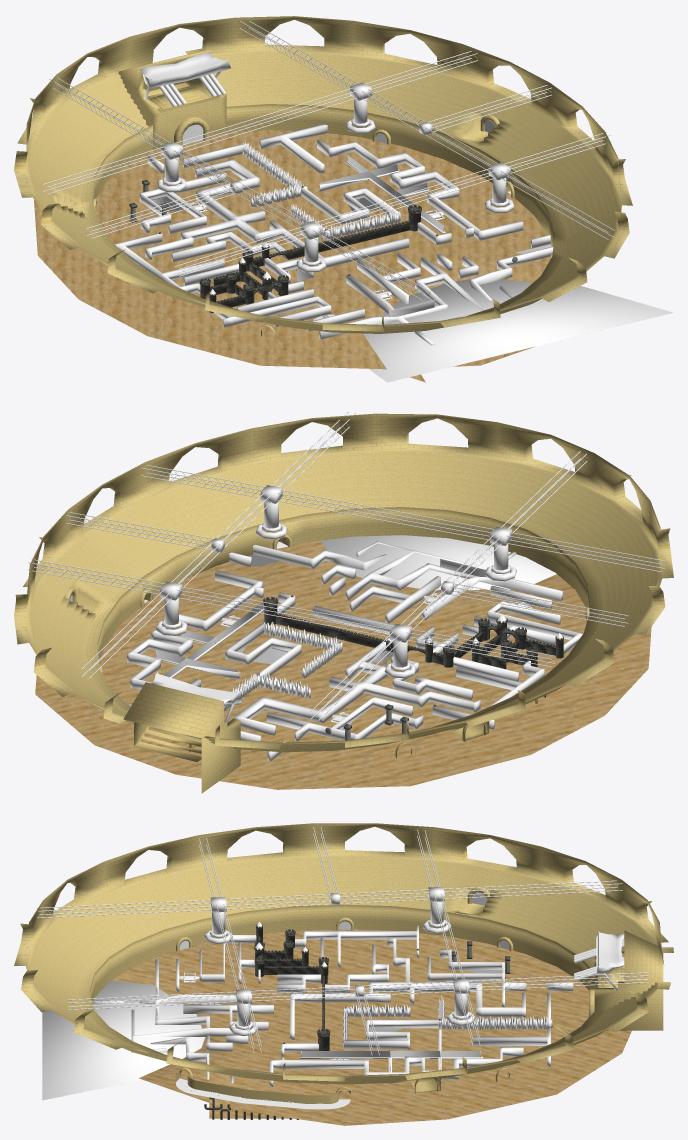
The model's file is ancient_colosseum_labyrinth_track.glb.
The picture shows the model from 3 angles, top to bottom: view 1: azimuth 30°, elevation 25°; view 2: azimuth 150°, elevation 25°; view 3: azimuth 270°, elevation 25°; orthographic projection. The views are drawn at different scales.
Visible parts, largest first — view 1: texture_egypte.jpg__, sand.jpg__, stk_generic_wallRock_a.png__, oceanicWater.png__, stk_lightGrayMetal_a.png__, stk_darkGrayMetal_a.png__, castelwall.jpg__, stk_generic_brickA.png__, stktex_rope_a.png__, stk_generic_ice_a.png__, stk_generic_grid_b.png__, stk_generic_thatch_a.png__ (+2 smaller); view 2: texture_egypte.jpg__, sand.jpg__, stk_generic_wallRock_a.png__, stk_lightGrayMetal_a.png__, oceanicWater.png__, castelwall.jpg__, stk_darkGrayMetal_a.png__, stk_generic_brickA.png__, stktex_rope_a.png__, stk_generic_ice_a.png__, stk_generic_grid_b.png__, stk_generic_thatch_a.png__; view 3: texture_egypte.jpg__, sand.jpg__, stk_generic_wallRock_a.png__, oceanicWater.png__, stk_lightGrayMetal_a.png__, stk_darkGrayMetal_a.png__, castelwall.jpg__, stktex_rope_a.png__, stk_generic_ice_a.png__, stk_generic_brickA.png__, stk_generic_grid_b.png__, bumpy_surface.png__ (+1 smaller).
Part boxes in pixels (box(x1,y1,x2,y2)): texture_egypte.jpg__: box(14, 16, 632, 339); sand.jpg__: box(34, 130, 550, 382); stk_generic_wallRock_a.png__: box(114, 124, 553, 345); oceanicWater.png__: box(363, 279, 673, 382); stk_lightGrayMetal_a.png__: box(43, 21, 614, 301); stk_darkGrayMetal_a.png__: box(45, 23, 614, 316); castelwall.jpg__: box(199, 204, 421, 312); stk_generic_brickA.png__: box(317, 139, 523, 240); stktex_rope_a.png__: box(157, 98, 514, 272); stk_generic_ice_a.png__: box(242, 141, 400, 238); stk_generic_grid_b.png__: box(321, 155, 443, 316); stk_generic_thatch_a.png__: box(139, 52, 225, 79); texture_egypte.jpg__: box(14, 413, 673, 793); sand.jpg__: box(35, 540, 651, 789); stk_generic_wallRock_a.png__: box(127, 541, 582, 760); stk_lightGrayMetal_a.png__: box(28, 411, 664, 720); oceanicWater.png__: box(320, 535, 556, 590); castelwall.jpg__: box(263, 596, 563, 669); stk_darkGrayMetal_a.png__: box(29, 423, 661, 714); stk_generic_brickA.png__: box(127, 570, 262, 689); stktex_rope_a.png__: box(156, 501, 516, 678); stk_generic_ice_a.png__: box(224, 620, 340, 710); stk_generic_grid_b.png__: box(156, 559, 486, 677); stk_generic_thatch_a.png__: box(151, 673, 237, 702); texture_egypte.jpg__: box(14, 823, 673, 1103); sand.jpg__: box(111, 929, 631, 1125); stk_generic_wallRock_a.png__: box(93, 925, 573, 1107); oceanicWater.png__: box(42, 980, 205, 1100); stk_lightGrayMetal_a.png__: box(36, 827, 648, 1055); stk_darkGrayMetal_a.png__: box(37, 836, 644, 1071); castelwall.jpg__: box(254, 924, 330, 1050); stktex_rope_a.png__: box(204, 901, 475, 1035); stk_generic_ice_a.png__: box(343, 995, 552, 1048); stk_generic_brickA.png__: box(269, 1047, 523, 1086); stk_generic_grid_b.png__: box(301, 1051, 480, 1063); bumpy_surface.png__: box(176, 1078, 350, 1109).
Size of the model in its own units: 298 by 61.84 by 359.
Materials: 36 (13 with a texture image).
